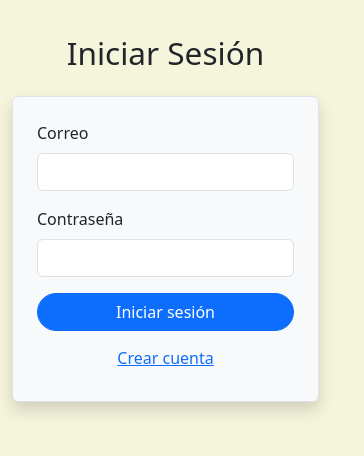
Scenario: Componente Login › Muestra mensaje de error si los campos están vacios
This screenshot has width=364, height=456.
Click the button "Iniciar sesión". click: (166, 312)
box: left=37, top=293, right=294, bottom=331
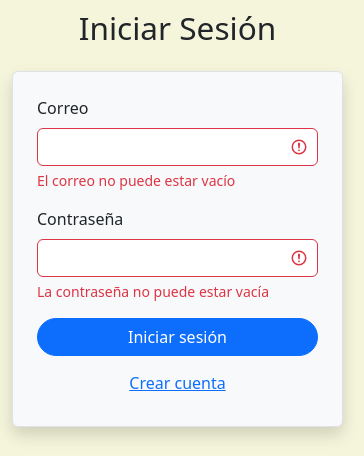
Expected: the text "El correo no puede estar vacío" is shown, left=37, top=171, right=235, bottom=190
Expected: the text "La contraseña no puede estar vacía" is shown, left=37, top=282, right=269, bottom=301
